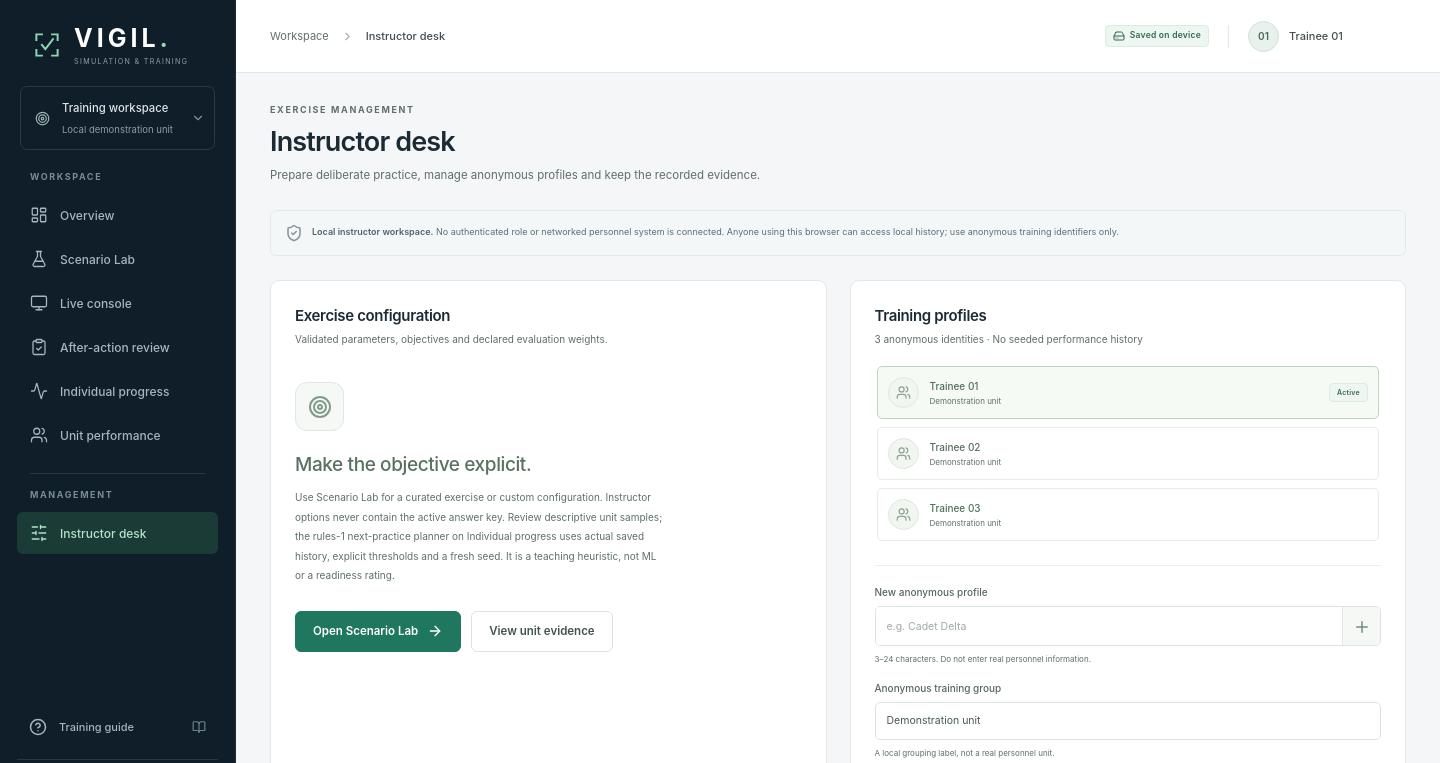
it: Phase 1 navigation and foundation › adds an actual local anonymous profile and rejects duplicates
Type "Cadet Delta" into the field labelled "New anonymous profile" at (1109,626), box [876, 607, 1342, 645]
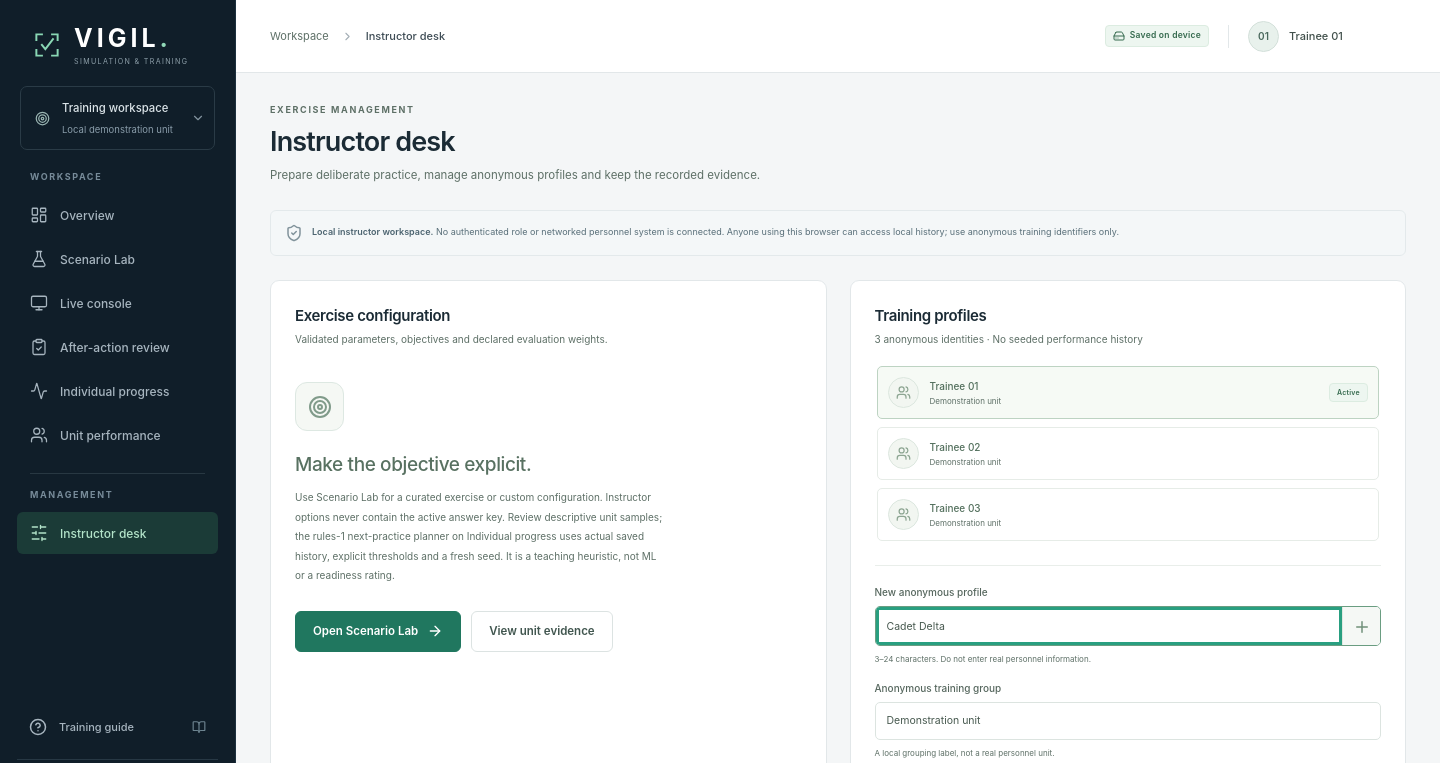
Click the button named "Add profile" at (1361,626), box [1342, 607, 1380, 645]
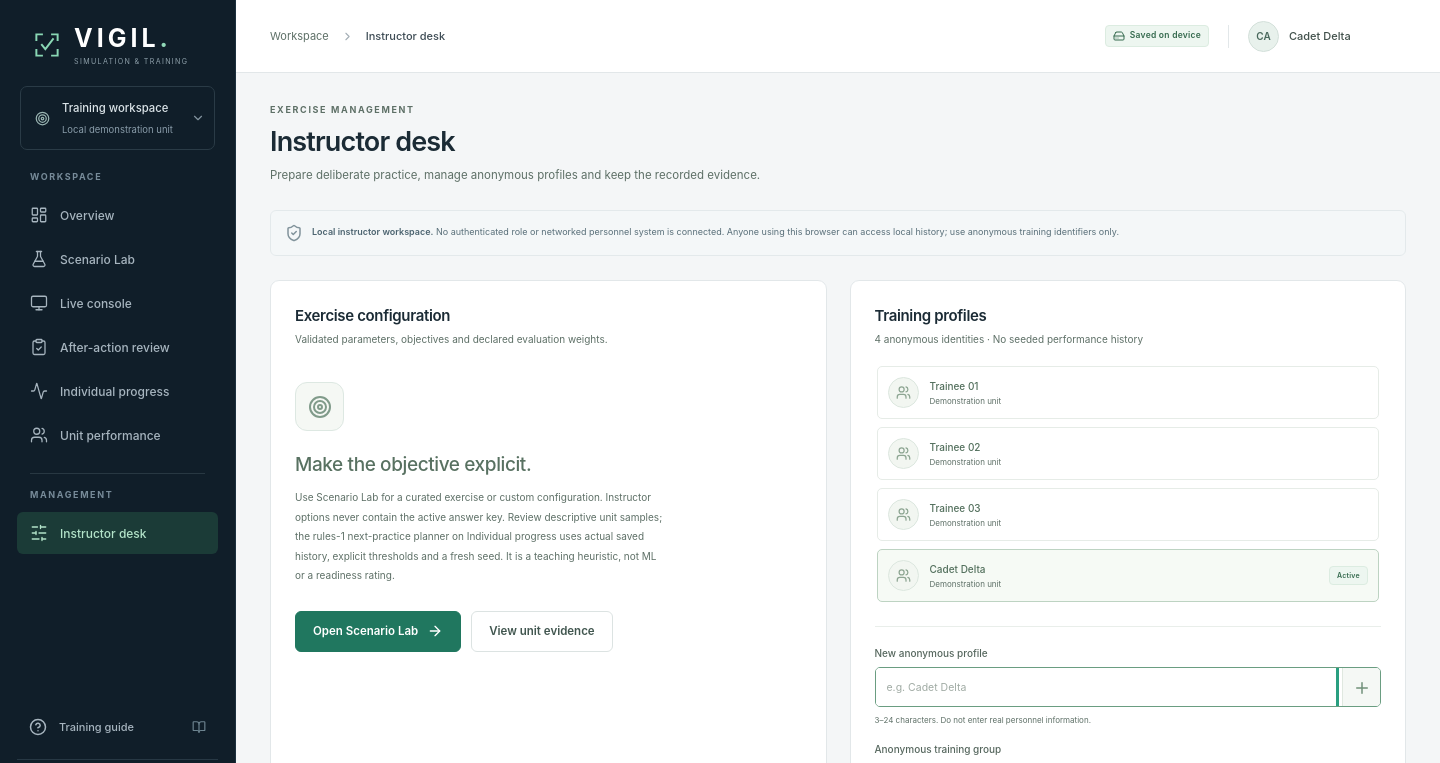
Now the dropdown named "Active trainee profile" shows "Cadet Delta", box [1288, 20, 1406, 52]
Type "cadet delta" into the field labelled "New anonymous profile" at (1109,687), box [876, 668, 1342, 706]
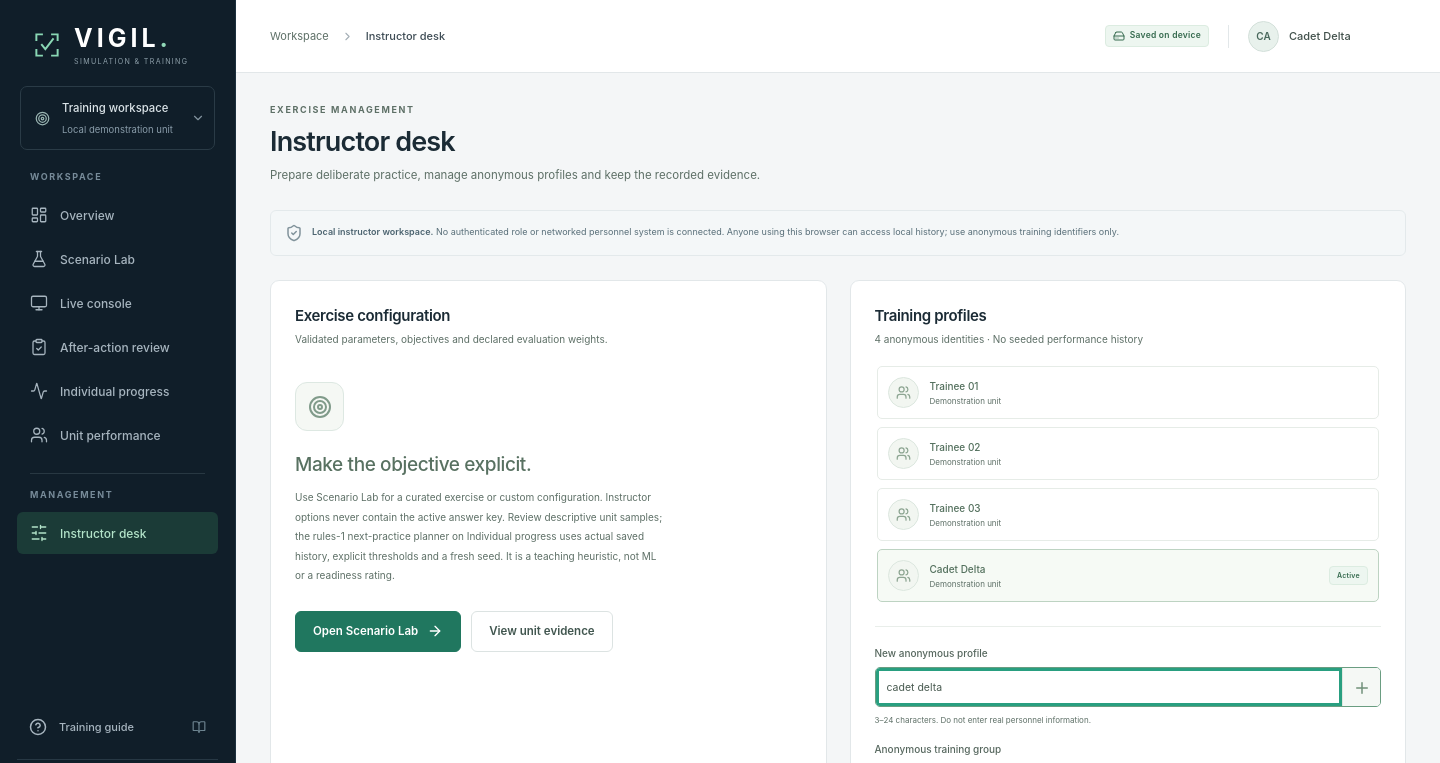
Click the button named "Add profile" at (1361,687), box [1342, 668, 1380, 706]
(page scrolled)
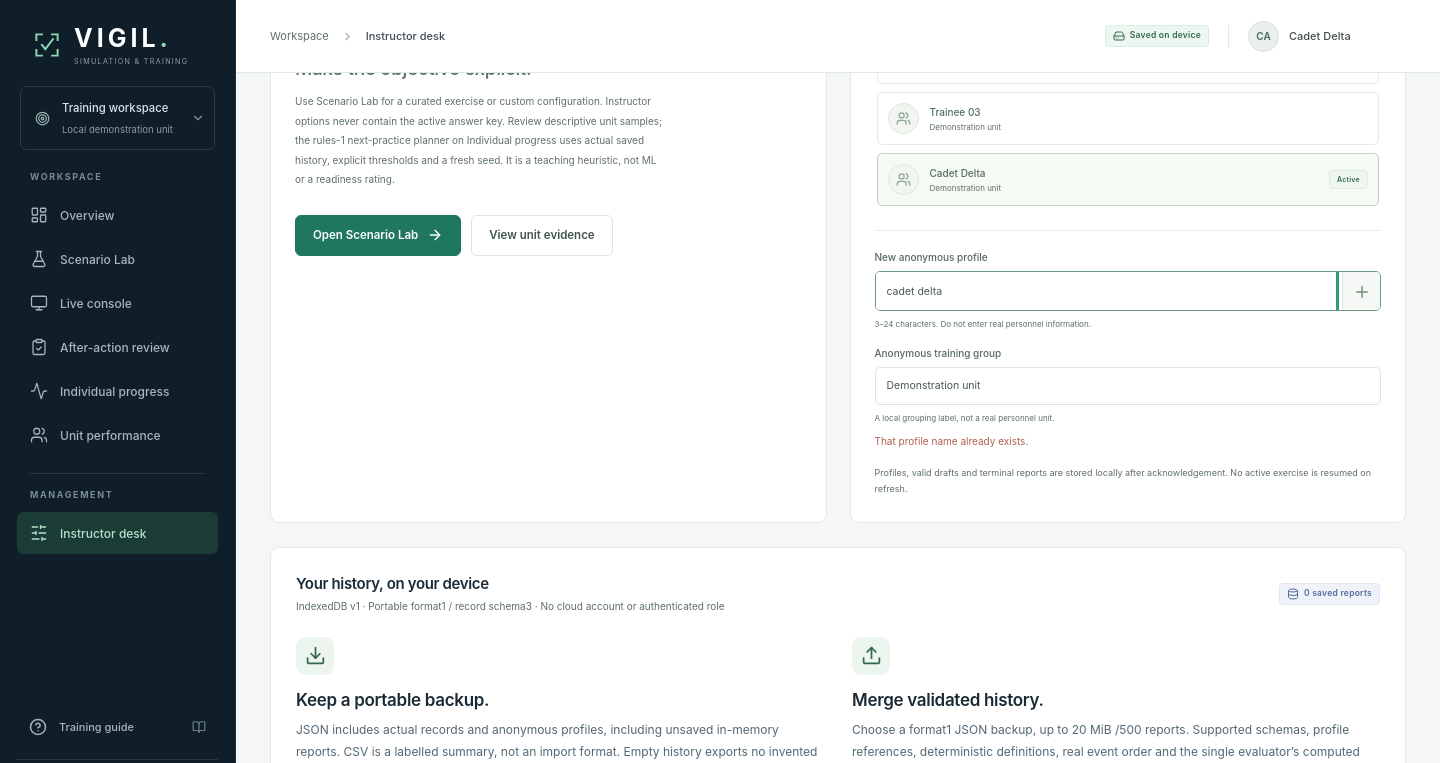
Now the message shows "already exists", box [874, 435, 1028, 447]
